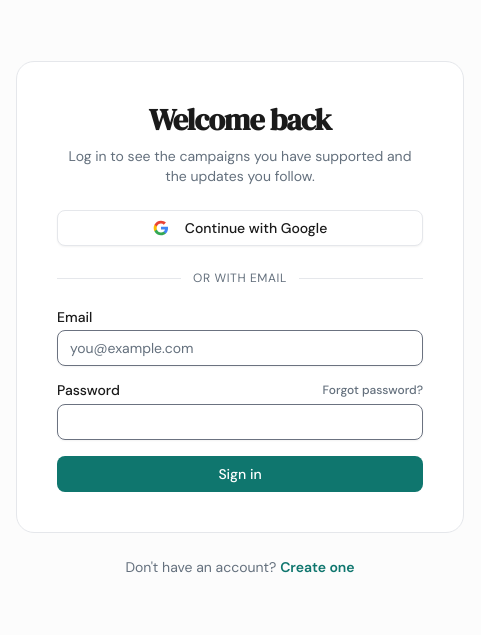
a wrong password says the password is wrong › renders the credential message for invalid_credentials
Type "someone@example.com" into the field labelled "Email" at (240, 348), box [57,330,423,366]
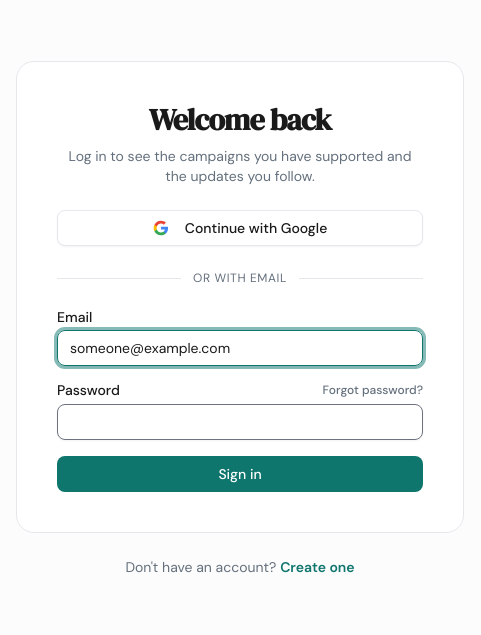
Type "whatever1" into the password field labelled "Password" at (240, 422), box [57,404,423,440]
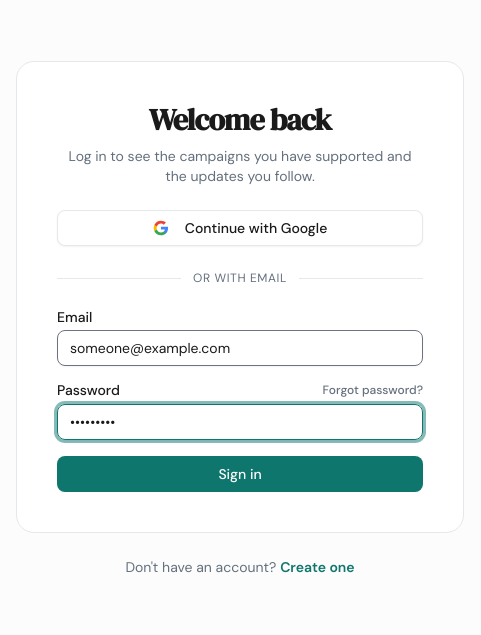
Click the button "Sign in" at (240, 474), box [57,456,423,492]
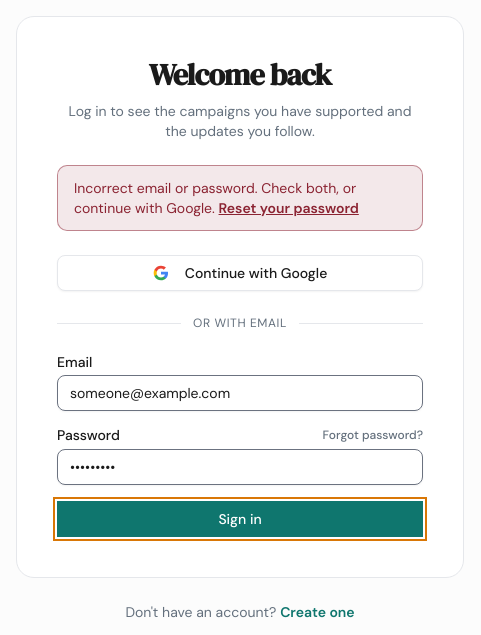
Now the message shows "Incorrect email or password. Check both, or continue with Google.", box [74,179,356,217]
